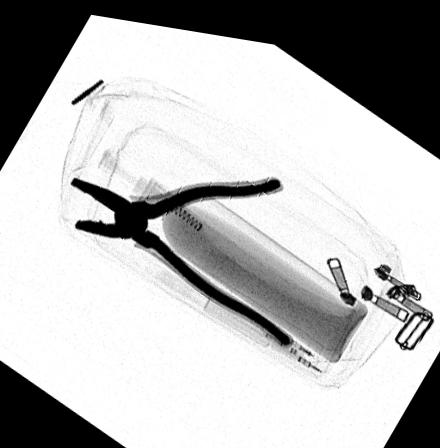Pliers: (70, 166, 296, 336)
